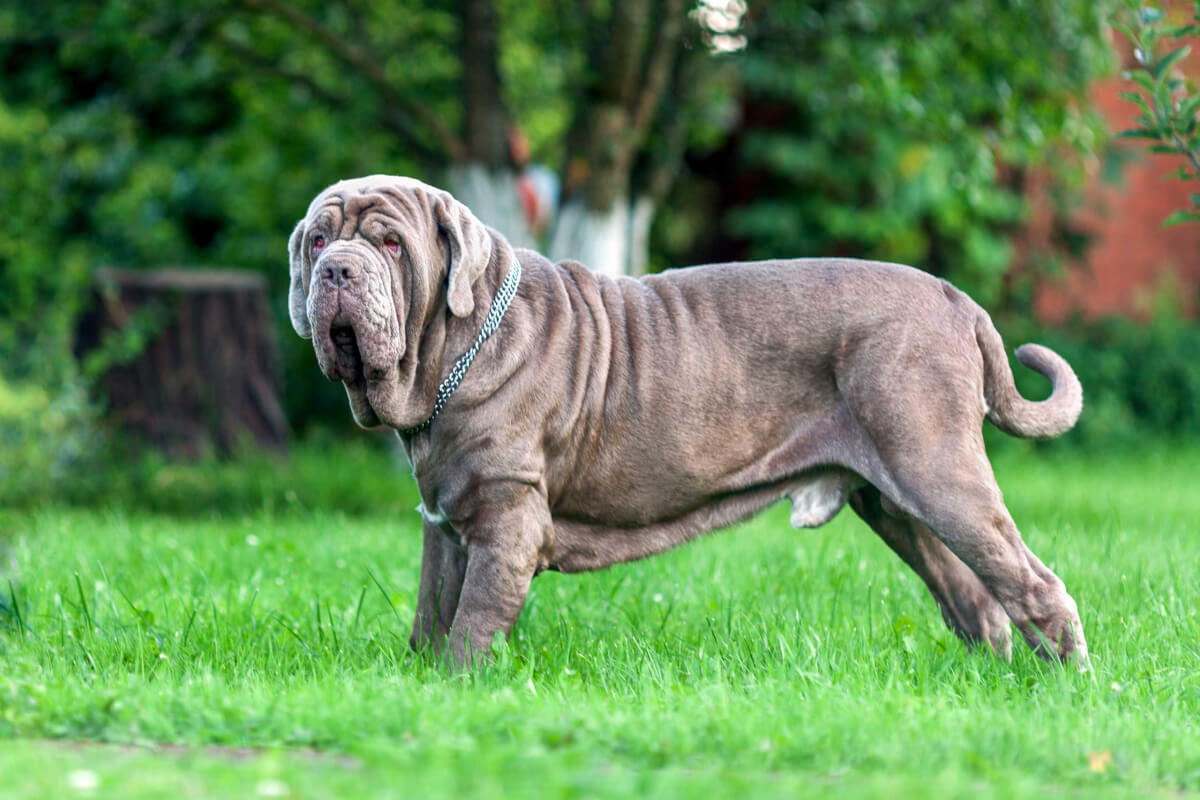neapolitan_mastiff: (284, 174, 1094, 678)
